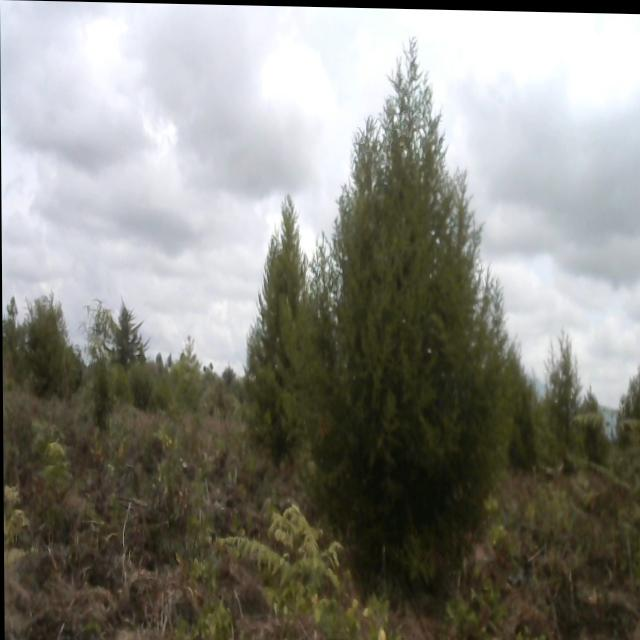cedrus: (321, 14, 514, 590), (251, 177, 325, 459), (541, 332, 582, 459), (28, 291, 70, 396)
other: (102, 290, 147, 366)
